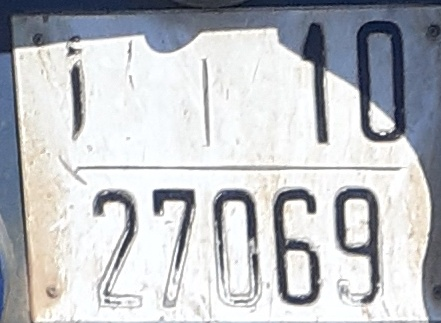0: (354, 17, 411, 146), (210, 186, 264, 310)
1: (295, 18, 337, 149)
2: (82, 185, 145, 312)
6: (271, 185, 321, 306)
7: (151, 185, 199, 310)
9: (332, 184, 389, 307)
a: (58, 35, 92, 145)
